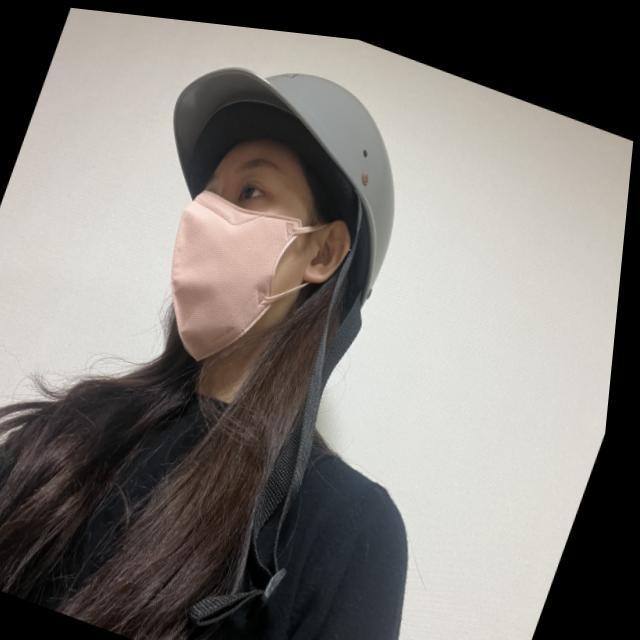Helmet: (144, 61, 412, 382)
